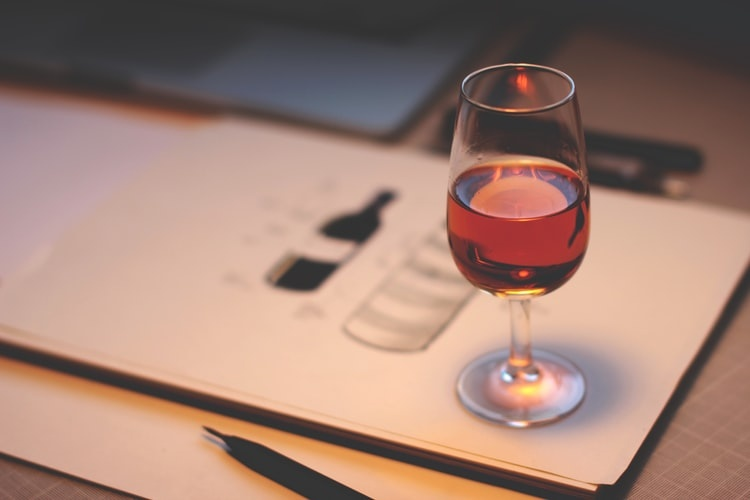whiskey: (450, 65, 589, 423)
